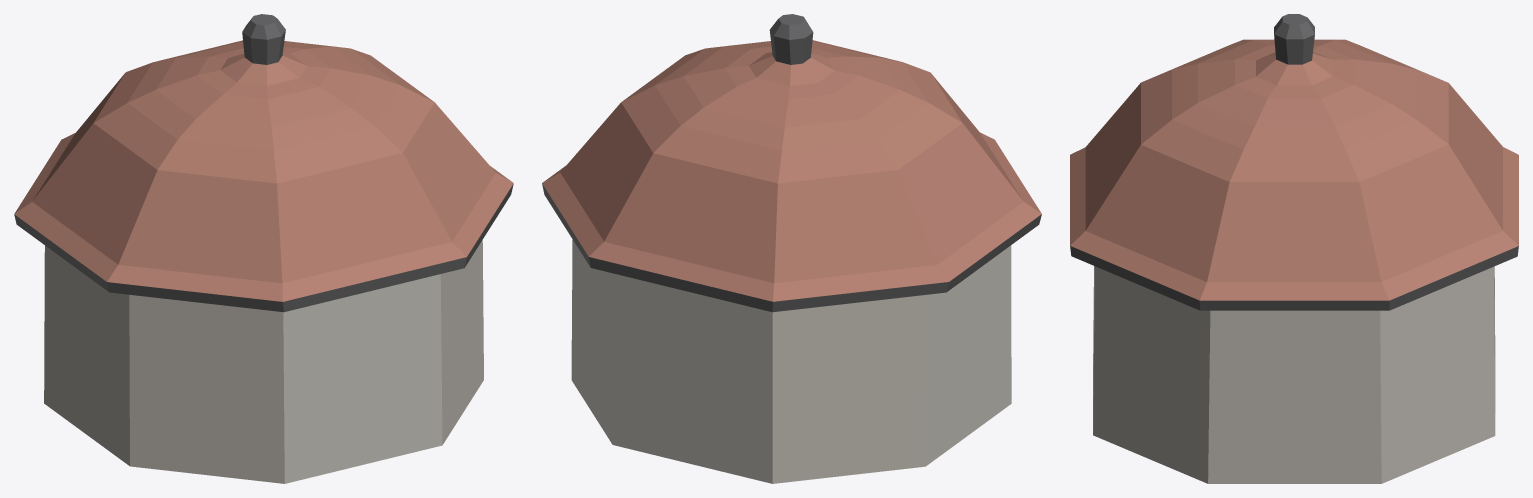
The model's file is loin.glb.
3 views of the same model, side by side, from view 1: azimuth 30°, elevation 25°; view 2: azimuth 150°, elevation 25°; view 3: azimuth 270°, elevation 25° (orthographic).
Visible parts, largest first — view 1: loin; view 2: loin; view 3: loin.
Boxes of the visible parts, <box> form: loin: <box>14,14,513,483</box>; loin: <box>542,14,1041,483</box>; loin: <box>1070,14,1518,483</box>.
Size of the model in its own units: 1 by 0.8763 by 0.9455.
